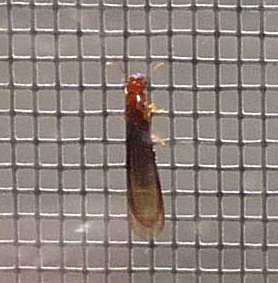flying termite: (107, 48, 187, 251)
